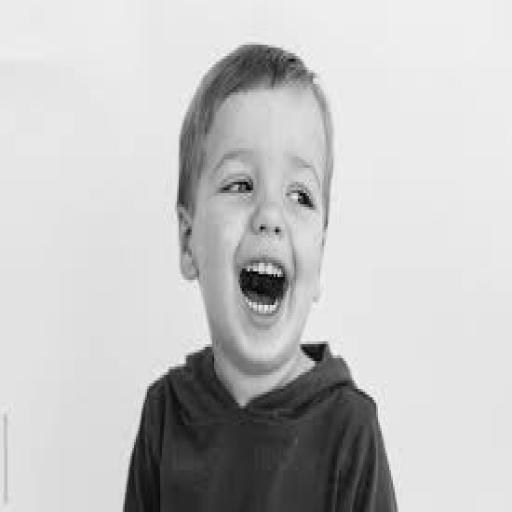laughing: (114, 34, 404, 509)
